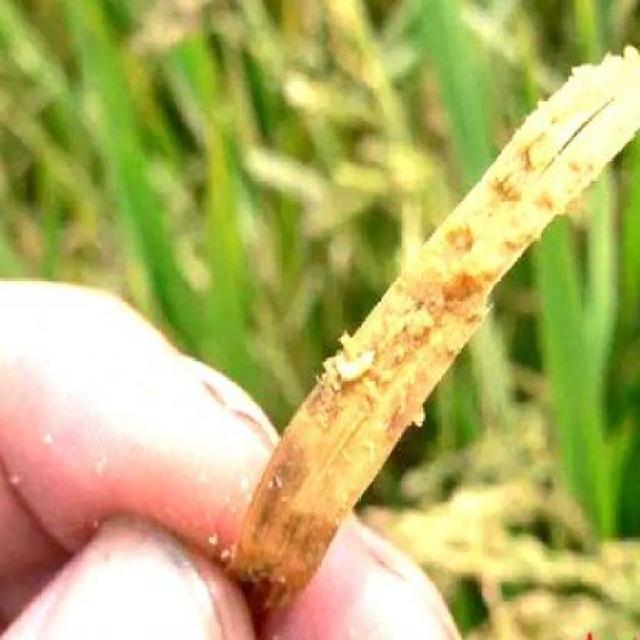whorl-maggot: (332, 344, 380, 390)
